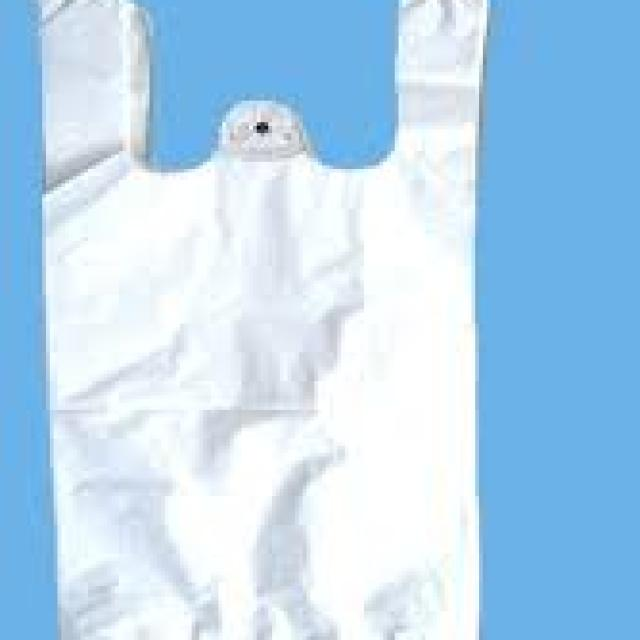organic: (33, 1, 528, 635)
